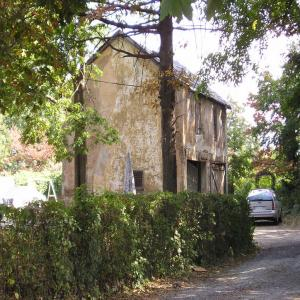Vehicle-registration-plate: (258, 207, 264, 212)
